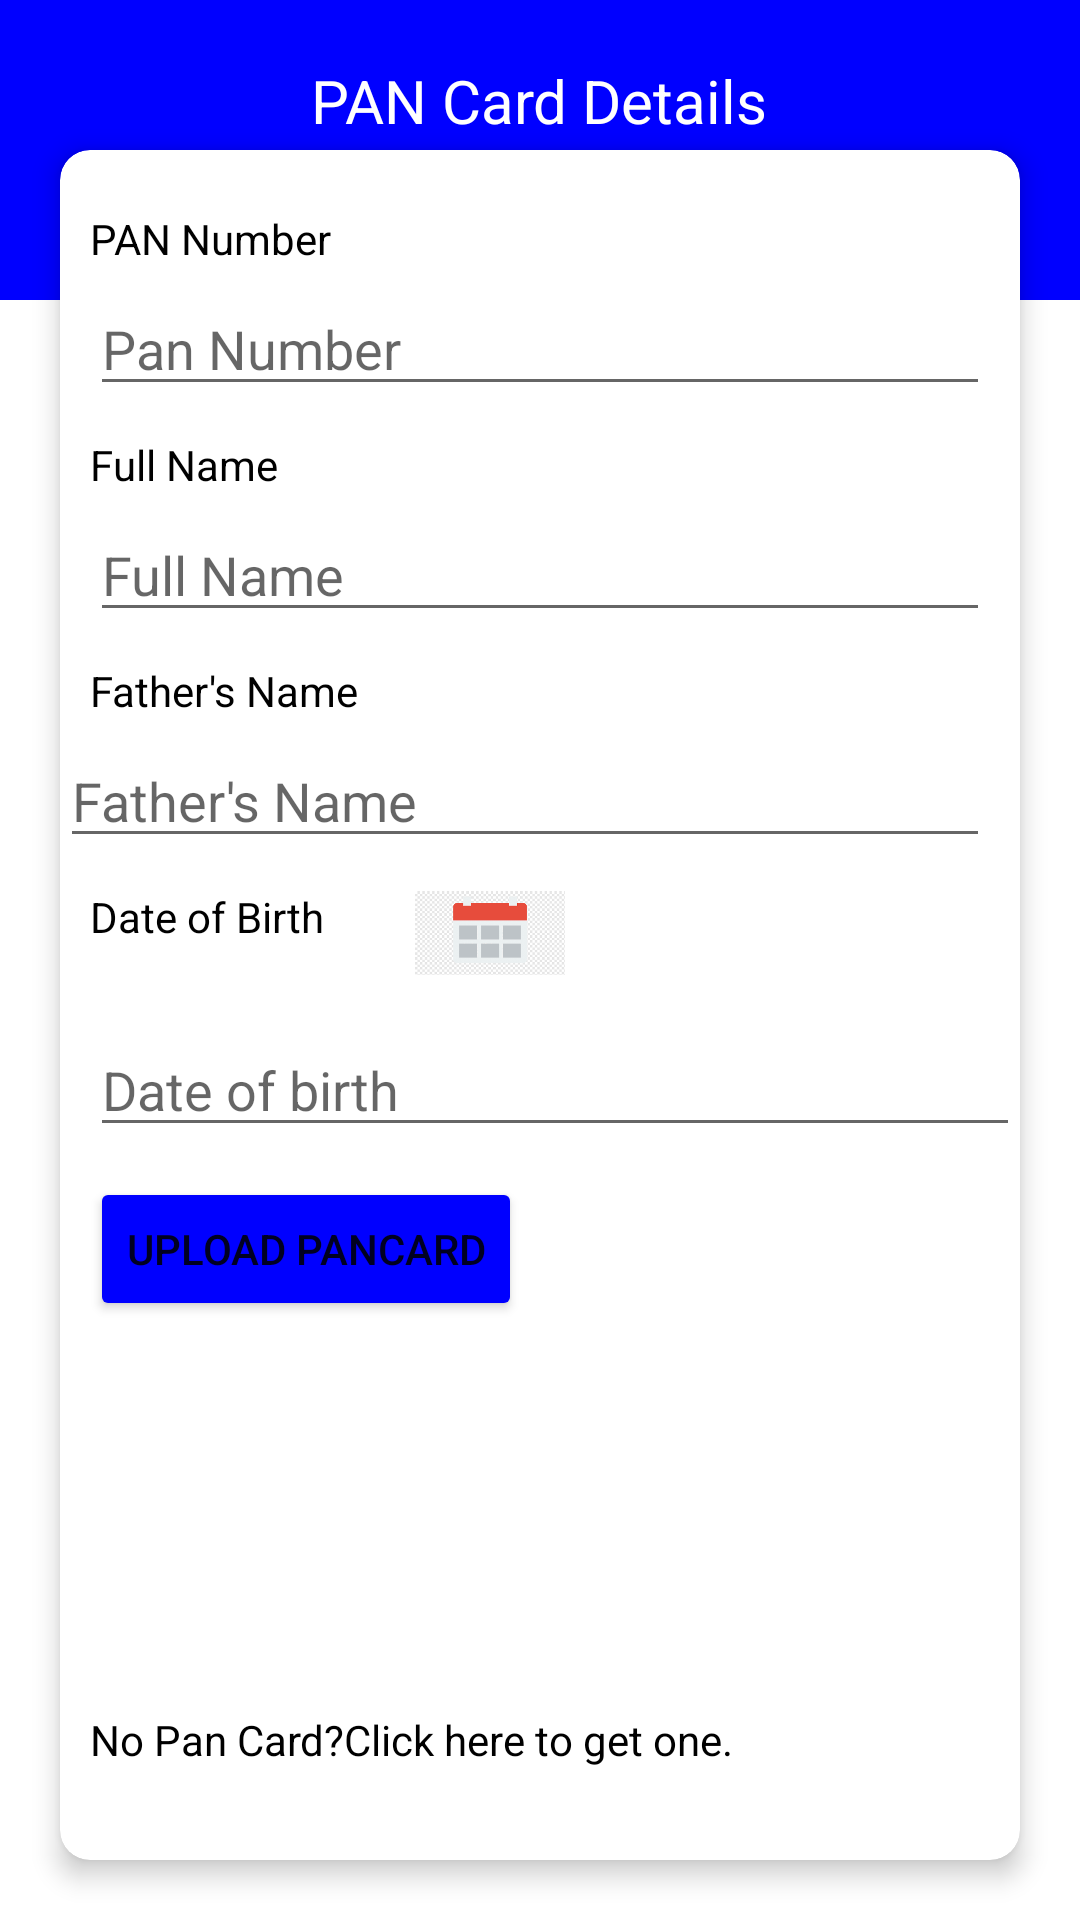

Icon bounding boxes for this 1080 x 1920 phone screenshot, format (x1, y1, x2, y2):
datepicker: (415, 891, 565, 975)
